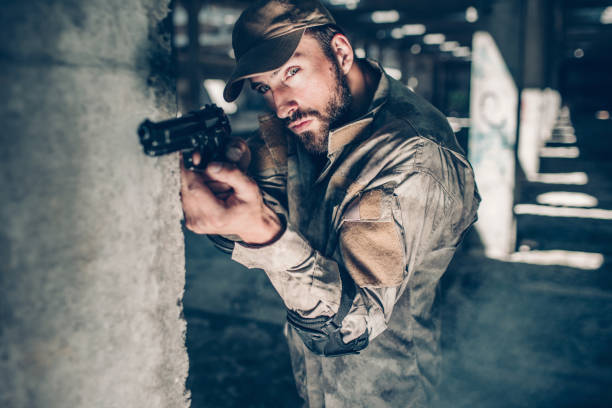gun: (136, 102, 233, 175)
